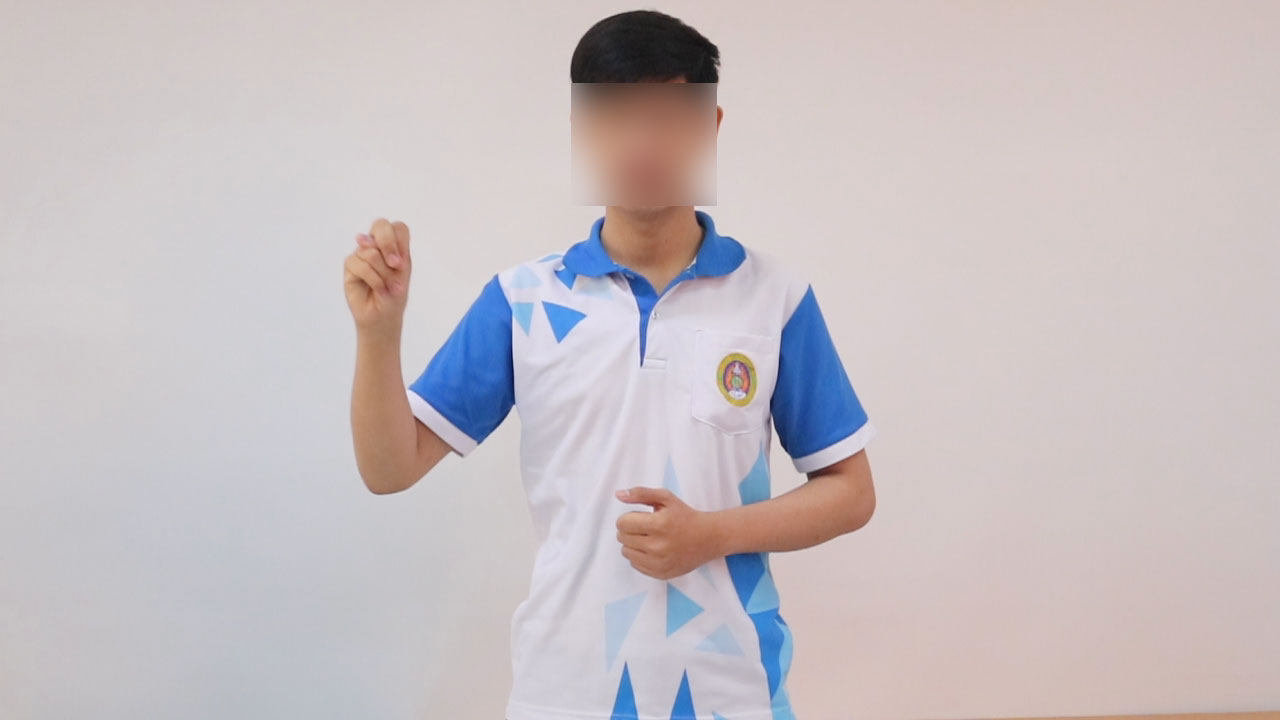nor: (338, 212, 421, 338)
